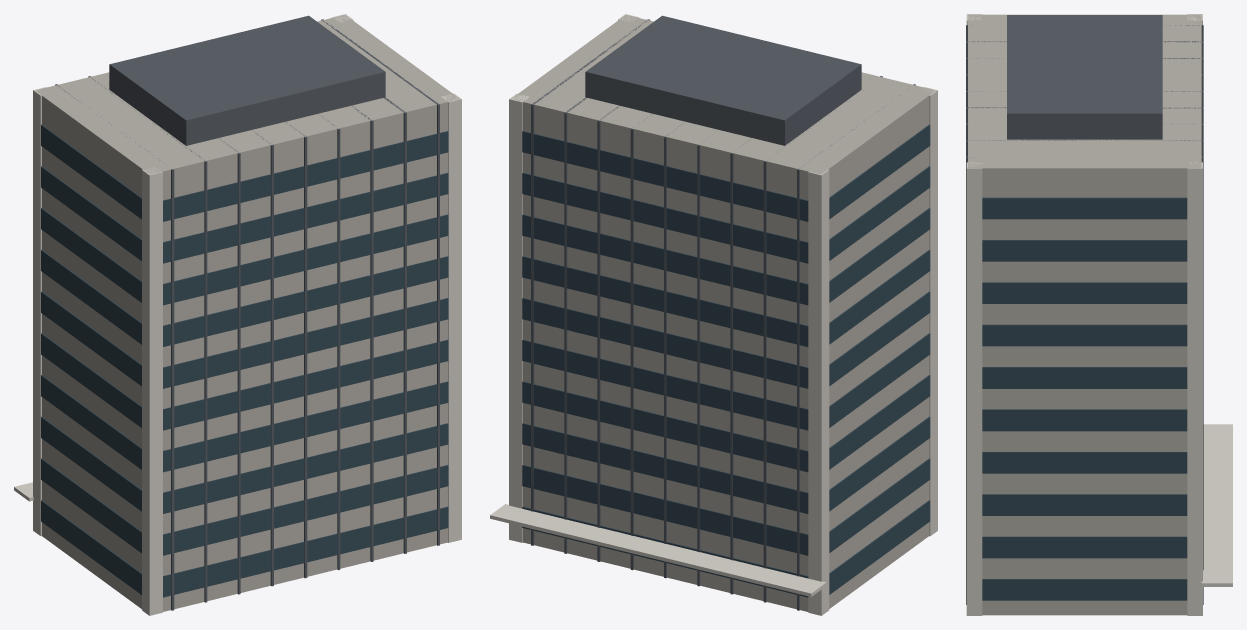
The model's file is d-us-07-mid-rise-office.glb.
3 views of the same model, side by side, from view 1: azimuth 30°, elevation 25°; view 2: azimuth 150°, elevation 25°; view 3: azimuth 270°, elevation 25° (orthographic).
Visible parts, largest first — view 1: part0, part25, part20, part6, part2, part10, part9, part3, part5, part7, part4, part8 (+12 smaller); view 2: part0, part25, part21, part10, part6, part4, part9, part2, part3, part8, part5, part7 (+13 smaller); view 3: part0, part25, part22, part23, part24, part5, part2, part7, part10, part1, part3, part4 (+4 smaller).
Part boxes in pixels (x1,y1,x2,y2): part0: (35,15,459,611); part25: (109,15,385,145); part20: (142,167,162,615); part6: (41,291,448,388); part2: (41,458,448,555); part10: (41,124,448,221); part9: (41,166,448,263); part3: (41,416,448,513); part5: (41,333,448,430); part7: (41,250,448,346); part4: (41,375,448,472); part8: (41,208,448,305); part0: (512,15,935,611); part25: (585,15,861,145); part21: (808,169,829,615); part10: (522,124,930,221); part6: (522,291,930,388); part4: (522,375,930,472); part9: (522,166,930,263); part2: (522,458,930,555); part3: (522,416,930,513); part8: (522,208,930,305); part5: (522,333,930,430); part7: (522,250,930,346); part0: (968,14,1201,615); part25: (1007,15,1162,139); part22: (966,162,982,615); part23: (1187,162,1202,615); part24: (1201,424,1232,586); part5: (982,409,1187,431); part2: (982,536,1187,558); part7: (982,324,1187,346); part10: (982,197,1187,219); part1: (982,579,1187,600); part3: (982,494,1187,515); part4: (982,452,1187,473).
Size of the model in its own units: 29000 by 40300 by 20551.
